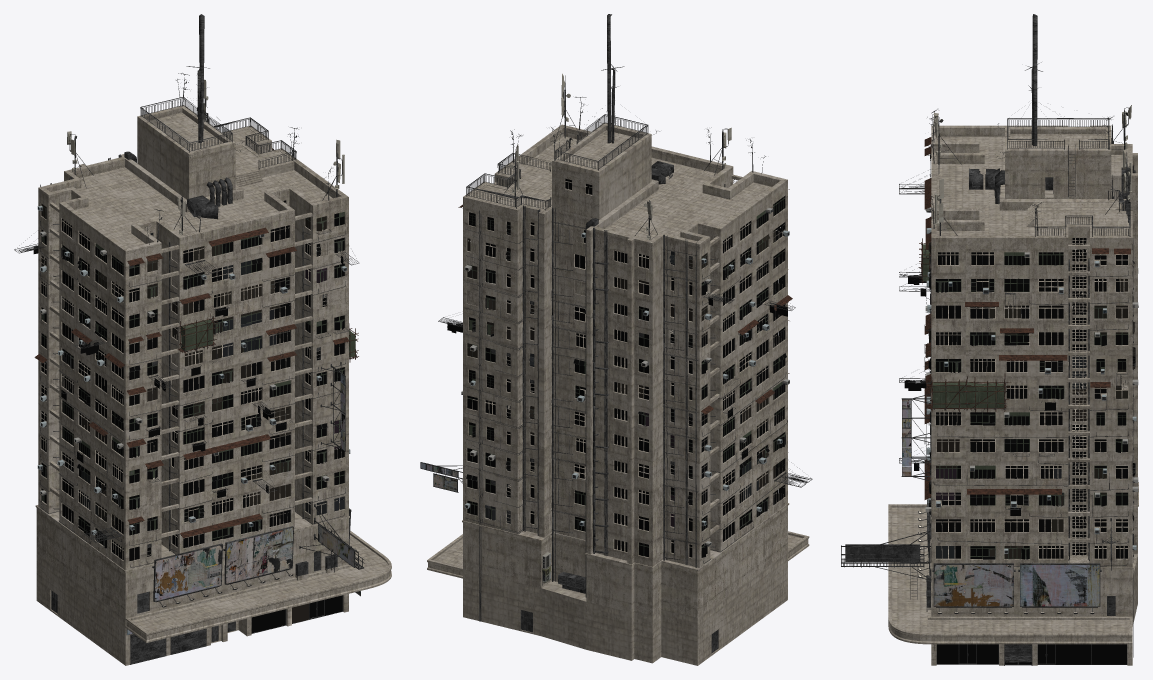
The model's file is tower02.glb.
3 views of the same model, side by side, from view 1: azimuth 30°, elevation 25°; view 2: azimuth 150°, elevation 25°; view 3: azimuth 270°, elevation 25° (orthographic). The views are drawn at different scales.
Visible parts, largest first — view 1: tower02; view 2: tower02; view 3: tower02.
Boxes of the visible parts, x1,y1,x2,y2 form: tower02: (14, 14, 391, 665); tower02: (420, 14, 812, 665); tower02: (841, 14, 1138, 665).
Bounding box in the file's own units: 33.65 × 61.98 × 27.81.
11 materials, 8 textured.
